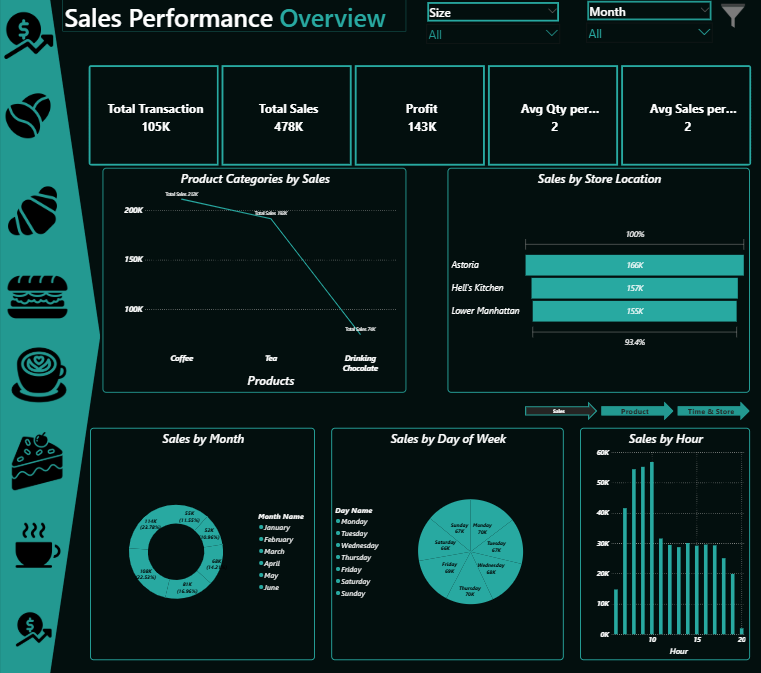

The page's visual inventory and layout, read from the dashboard file:
{"tool":"powerbi","page":{"name":"Sales","canvas":[2030,1800],"ordinal":0},"visuals":[{"type":"shape","box":[0,0,267.5,1800],"z":0},{"type":"image","box":[10,205,130,210],"z":1000},{"type":"image","box":[15,450,140,230],"z":2000},{"type":"image","box":[5,910,195,185],"z":3000},{"type":"image","box":[15,1050,165,365],"z":4000},{"type":"image","box":[10,680,180,230],"z":5000},{"type":"image","box":[35,1335,130,240],"z":6000},{"type":"shape","box":[166.7,0,916.7,86.7],"z":7000},{"type":"textbox","title":"Sales Performance","box":[166.7,3.3,746.7,83.3],"z":8000},{"type":"textbox","title":"Overview","box":[740,3.3,343.3,83.3],"z":9000},{"type":"slicer","fields":{"Values":["Coffeeee.Month"]},"box":[1553.3,0,356.7,130],"z":10000},{"type":"slicer","fields":{"Values":["Coffeeee.Size"]},"box":[1126.7,3.3,376.7,133.3],"z":11000},{"type":"image","box":[1910,0,90,90],"z":12000},{"type":"cardVisual","fields":{"Data":["Coffeeee.Total Transactions","Coffeeee.Total Sales","Coffeeee.Profit","Coffeeee.Avg Qty per Transaction","Coffeeee.Avg Sales per Transaction"]},"box":[210,170,1820,280],"z":13000},{"type":"lineChart","title":"Product Categories by Sales","fields":{"Category":["Coffeeee.product_category"],"Y":["Coffeeee.Total Sales"]},"box":[273.3,450,810,600],"z":14000},{"type":"funnel","title":"Sales by Store Location","fields":{"Category":["Coffeeee.store_location"],"Y":["Coffeeee.Total Sales"]},"box":[1193.3,450,806.7,600],"z":15000},{"type":"donutChart","title":"Sales by Month","fields":{"Y":["Coffeeee.Total Sales"],"Series":["Coffeeee.Month Name"]},"box":[240,1143.3,600,620],"z":16000},{"type":"pieChart","title":"Sales by Day of Week","fields":{"Category":["Coffeeee.Day Name"],"Y":["Coffeeee.Total Sales"]},"box":[883.3,1143.3,620,620],"z":17000},{"type":"ribbonChart","title":"Sales by Hour","fields":{"Category":["Coffeeee.Hour"],"Y":["Coffeeee.Total Sales"]},"box":[1546.7,1143.3,453.3,620],"z":18000},{"type":"image","box":[5,20,140,150],"z":19000},{"type":"image","box":[0,1625,180,105],"z":20000},{"type":"pageNavigator","box":[1400,1073.3,600,50],"z":20001}]}

Visuals, with their boxes in screenshot pixels (x1, y1, x2, y2), scaled from the page's 2030x1800 canvas onto the 761x673 screenshot:
shape: [0, 0, 100, 672]
image: [4, 77, 52, 155]
image: [6, 168, 58, 254]
image: [2, 340, 75, 409]
image: [6, 393, 67, 529]
image: [4, 254, 71, 340]
image: [13, 499, 62, 589]
shape: [62, 0, 406, 32]
"Sales Performance" textbox: [62, 1, 342, 32]
"Overview" textbox: [277, 1, 406, 32]
slicer - Coffeeee.Month: [582, 0, 716, 49]
slicer - Coffeeee.Size: [422, 1, 564, 51]
image: [716, 0, 750, 34]
cardVisual - Coffeeee.Total Transactions x Coffeeee.Total Sales: [79, 64, 760, 168]
"Product Categories by Sales" lineChart: [102, 168, 406, 393]
"Sales by Store Location" funnel: [447, 168, 750, 393]
"Sales by Month" donutChart: [90, 427, 315, 659]
"Sales by Day of Week" pieChart: [331, 427, 564, 659]
"Sales by Hour" ribbonChart: [580, 427, 750, 659]
image: [2, 7, 54, 64]
image: [0, 608, 67, 647]
pageNavigator: [525, 401, 750, 420]
